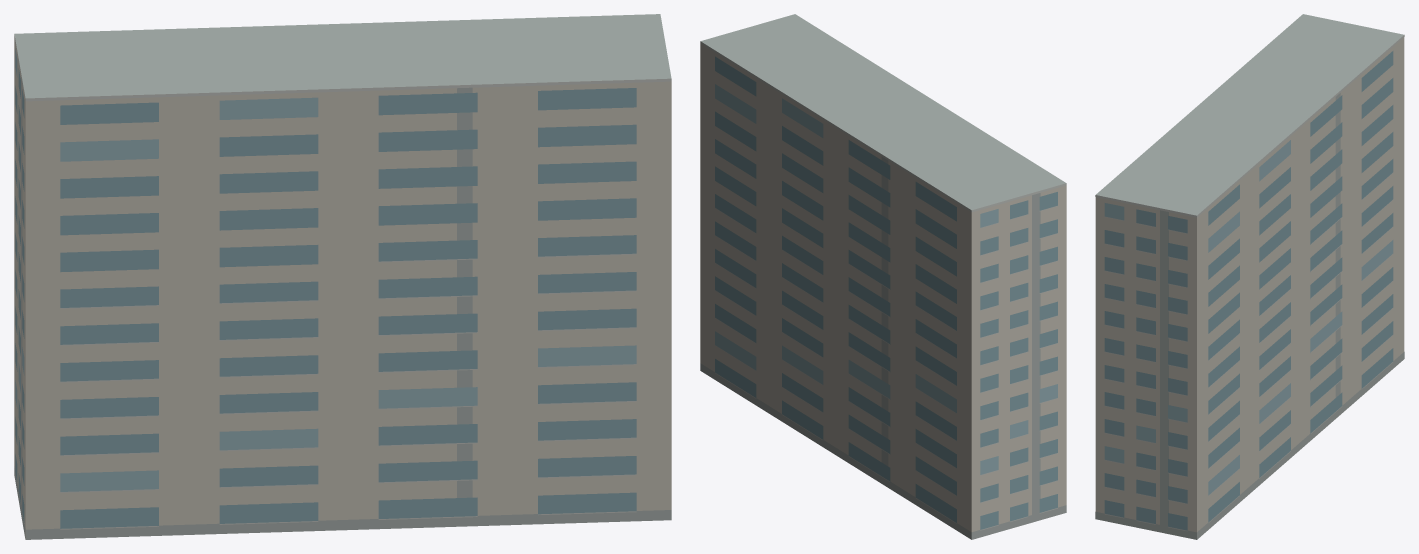
File: residential-79831f32-d09f-41e3-ba26-c6f698d90320.glb
The picture shows the model from 3 angles, left to right: view 1: azimuth 30°, elevation 25°; view 2: azimuth 150°, elevation 25°; view 3: azimuth 270°, elevation 25°; orthographic projection. The views are drawn at different scales.
Parts seen in each view (by area): view 1: residential-79831f32-d09f-41e3-ba26-c6f698d90320.tmp; view 2: residential-79831f32-d09f-41e3-ba26-c6f698d90320.tmp; view 3: residential-79831f32-d09f-41e3-ba26-c6f698d90320.tmp.
Part boxes in pixels (<box>): residential-79831f32-d09f-41e3-ba26-c6f698d90320.tmp: <box>14,14,671,539</box>; residential-79831f32-d09f-41e3-ba26-c6f698d90320.tmp: <box>700,14,1066,539</box>; residential-79831f32-d09f-41e3-ba26-c6f698d90320.tmp: <box>1095,14,1404,539</box>.
Size of the model in its own units: 48.82 by 36.6 by 31.61.
